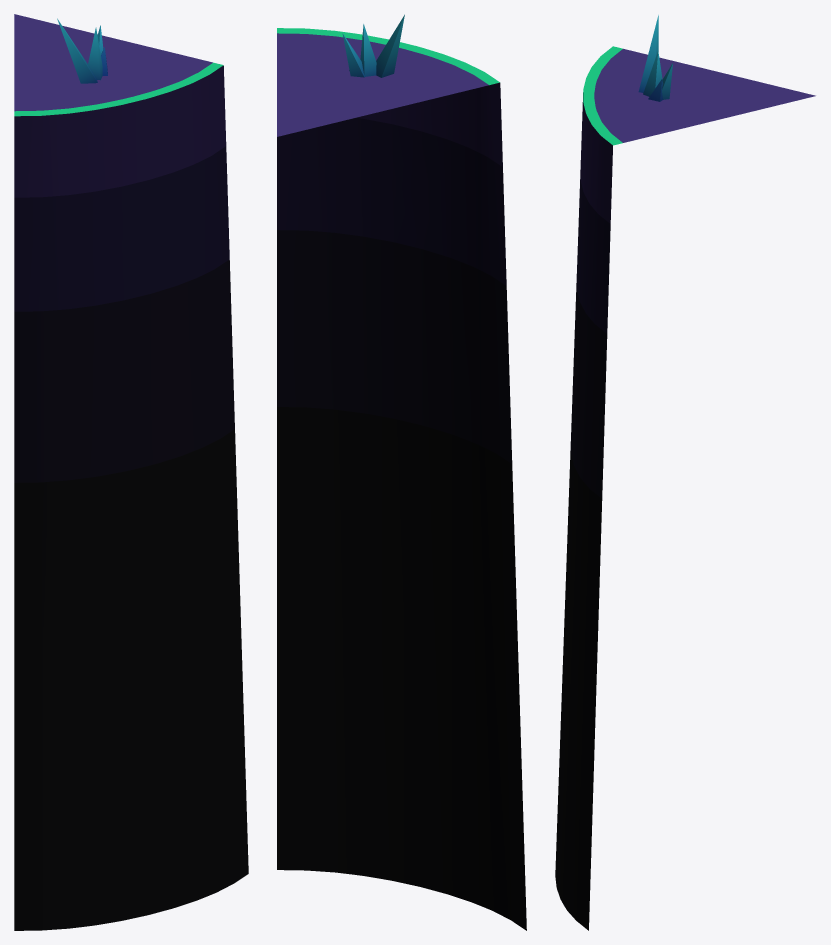
Rendered from MODULE_ALIEN_RIM_2_CRYSTALS.fbx.
The picture shows the model from 3 angles, left to right: view 1: azimuth 30°, elevation 25°; view 2: azimuth 150°, elevation 25°; view 3: azimuth 270°, elevation 25°; orthographic projection. The views are drawn at different scales.
Parts seen in each view (by area): view 1: MODULE_ALIEN_RIM_2_CRYSTALS__export, MODULE_ALIEN_RIM_2_CRYSTALS_DECOR__export; view 2: MODULE_ALIEN_RIM_2_CRYSTALS__export, MODULE_ALIEN_RIM_2_CRYSTALS_DECOR__export; view 3: MODULE_ALIEN_RIM_2_CRYSTALS__export, MODULE_ALIEN_RIM_2_CRYSTALS_DECOR__export.
Part boxes in pixels (x1=…): MODULE_ALIEN_RIM_2_CRYSTALS__export: x1=14, y1=14, x2=248, y2=930; MODULE_ALIEN_RIM_2_CRYSTALS_DECOR__export: x1=57, y1=18, x2=107, y2=83; MODULE_ALIEN_RIM_2_CRYSTALS__export: x1=277, y1=28, x2=526, y2=930; MODULE_ALIEN_RIM_2_CRYSTALS_DECOR__export: x1=342, y1=14, x2=404, y2=77; MODULE_ALIEN_RIM_2_CRYSTALS__export: x1=555, y1=46, x2=815, y2=930; MODULE_ALIEN_RIM_2_CRYSTALS_DECOR__export: x1=638, y1=15, x2=672, y2=101.
Size of the model in its own units: 53.82 by 190 by 53.48.
